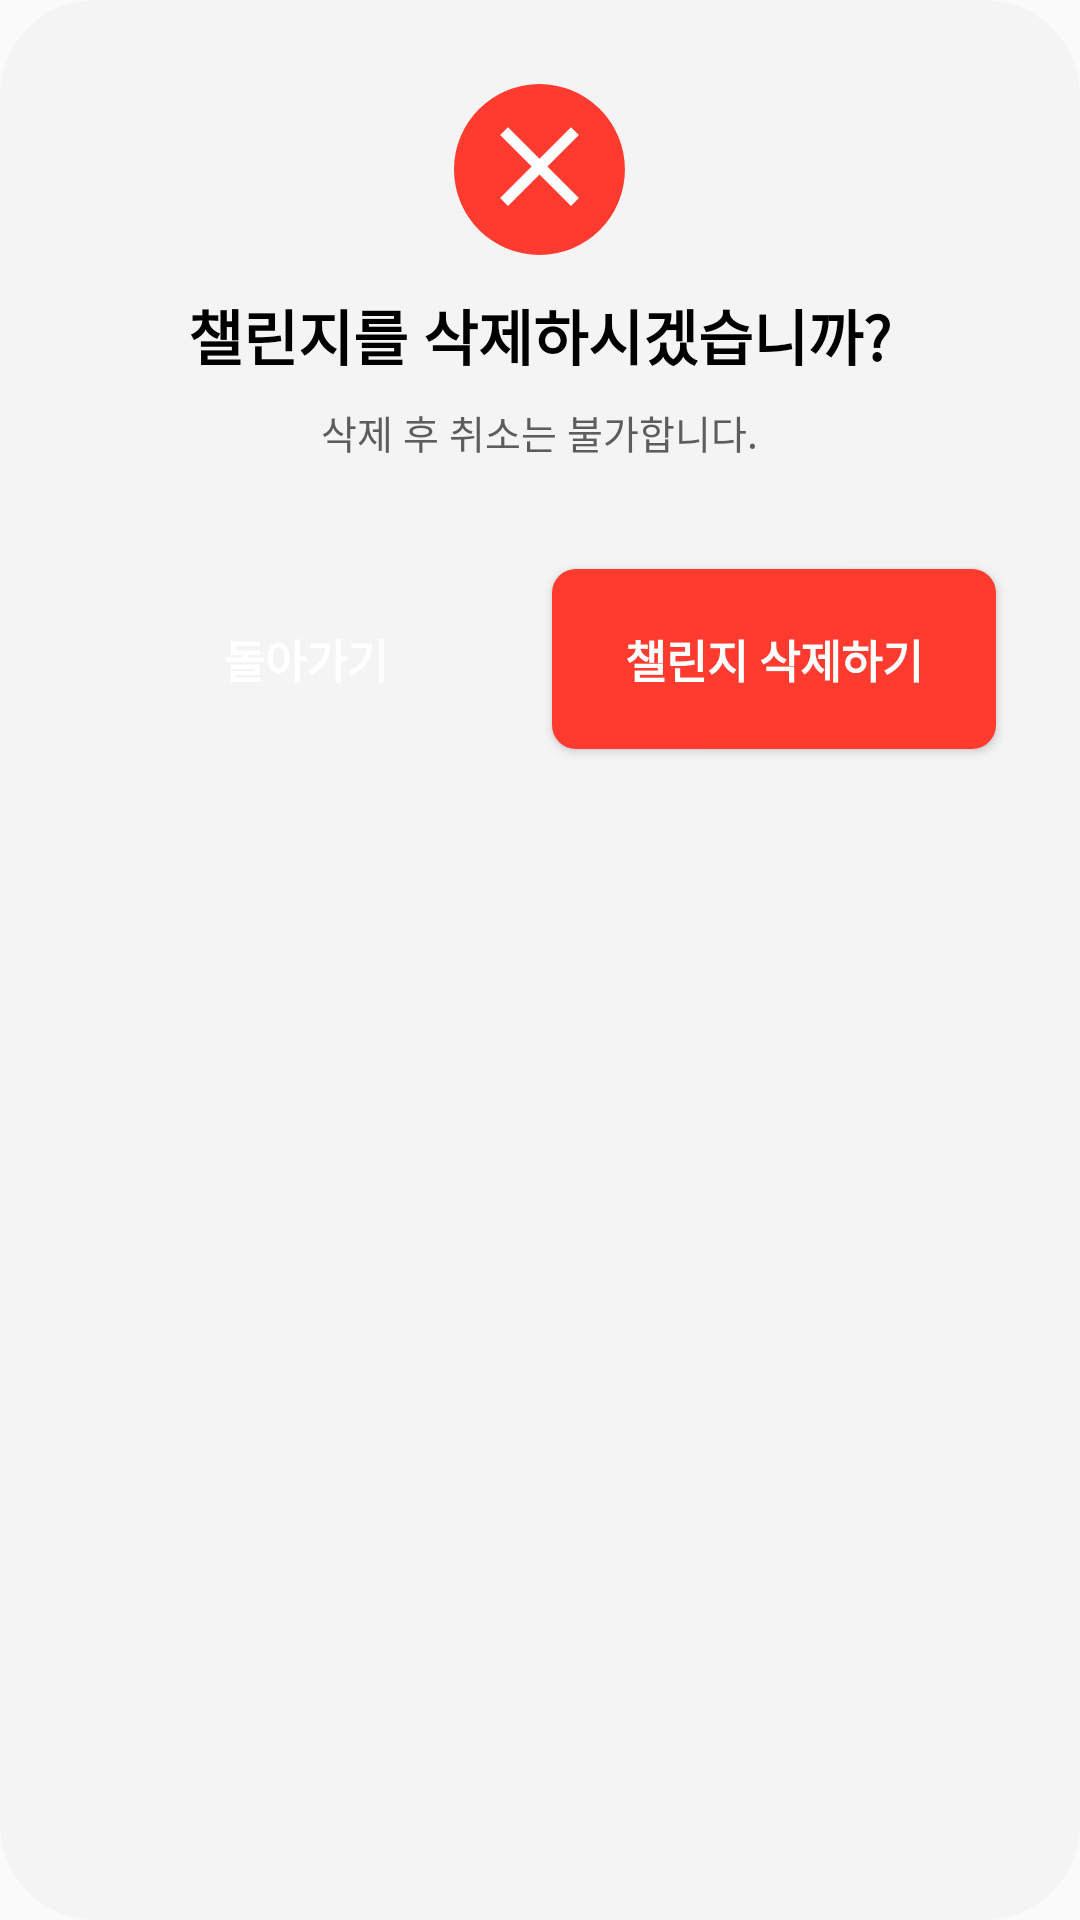

Named icons in this screenshot (1080×1920) and their bounding boxes, (x1, y1, x2, y2):
취소 이미지: (454, 84, 625, 255)
